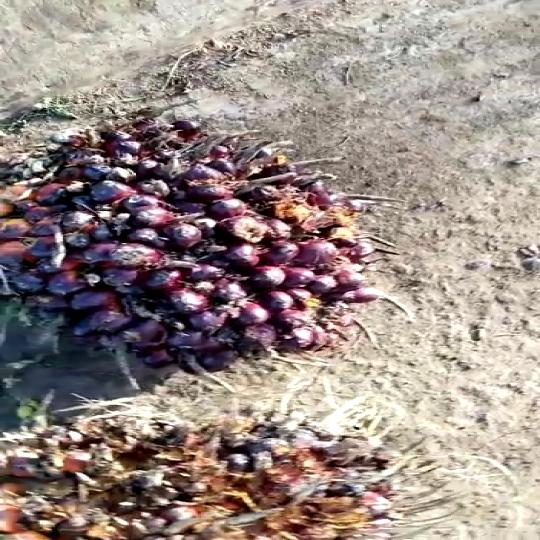kurang masak: (0, 95, 414, 377), (0, 390, 442, 540)
